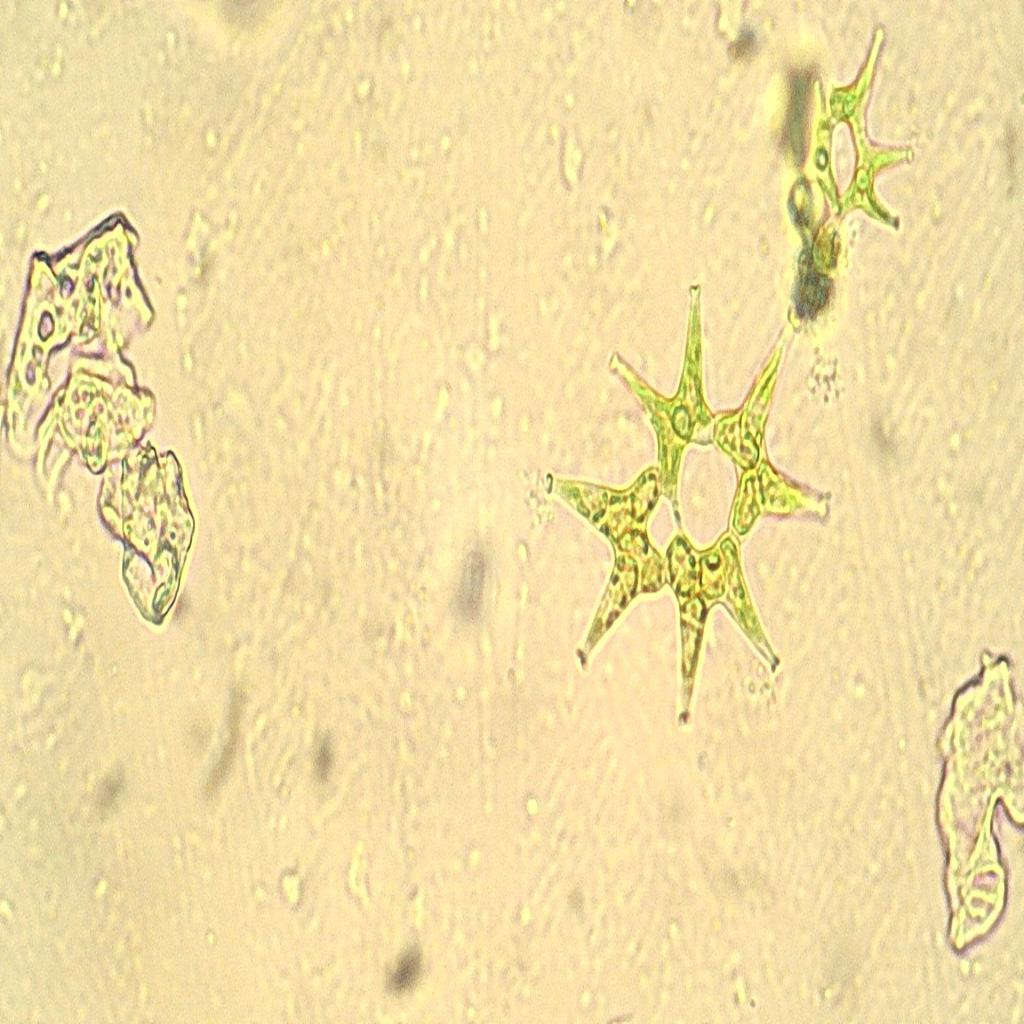Pediastrum_75FO: (524, 271, 849, 741)
